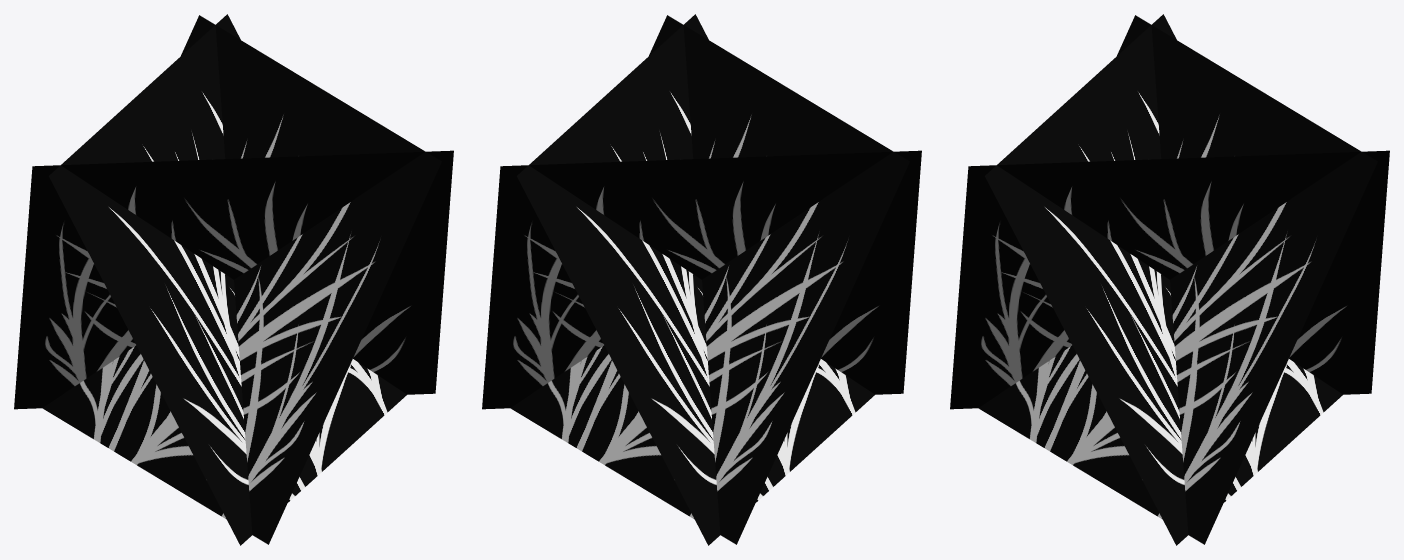
File: Grass1.fbx
3 views of the same model, side by side, from view 1: azimuth 30°, elevation 25°; view 2: azimuth 150°, elevation 25°; view 3: azimuth 270°, elevation 25° (orthographic).
Visible parts, largest first — view 1: Grass Texture 1; view 2: Grass Texture 1; view 3: Grass Texture 1.
Boxes of the visible parts, x1,y1,x2,y2 form: Grass Texture 1: (14,14,453,545); Grass Texture 1: (482,14,921,545); Grass Texture 1: (950,14,1389,545).
Size of the model in its own units: 112 by 86.6 by 104.
Materials: 1 (1 with a texture image).
